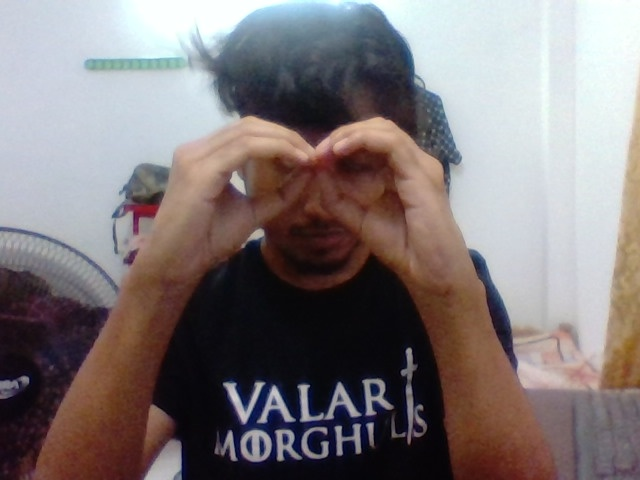B: (151, 105, 482, 300)
